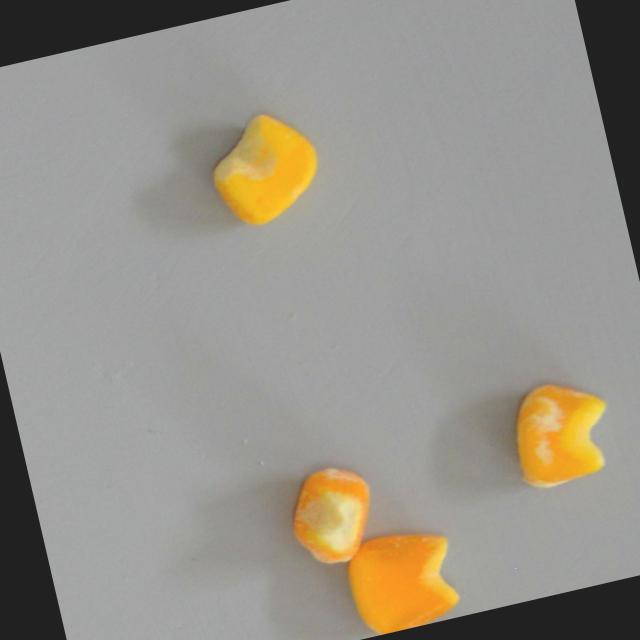dañado: (335, 519, 466, 640), (276, 455, 383, 576)
pelicula: (496, 366, 625, 498)
punto_negro: (197, 101, 330, 235)
